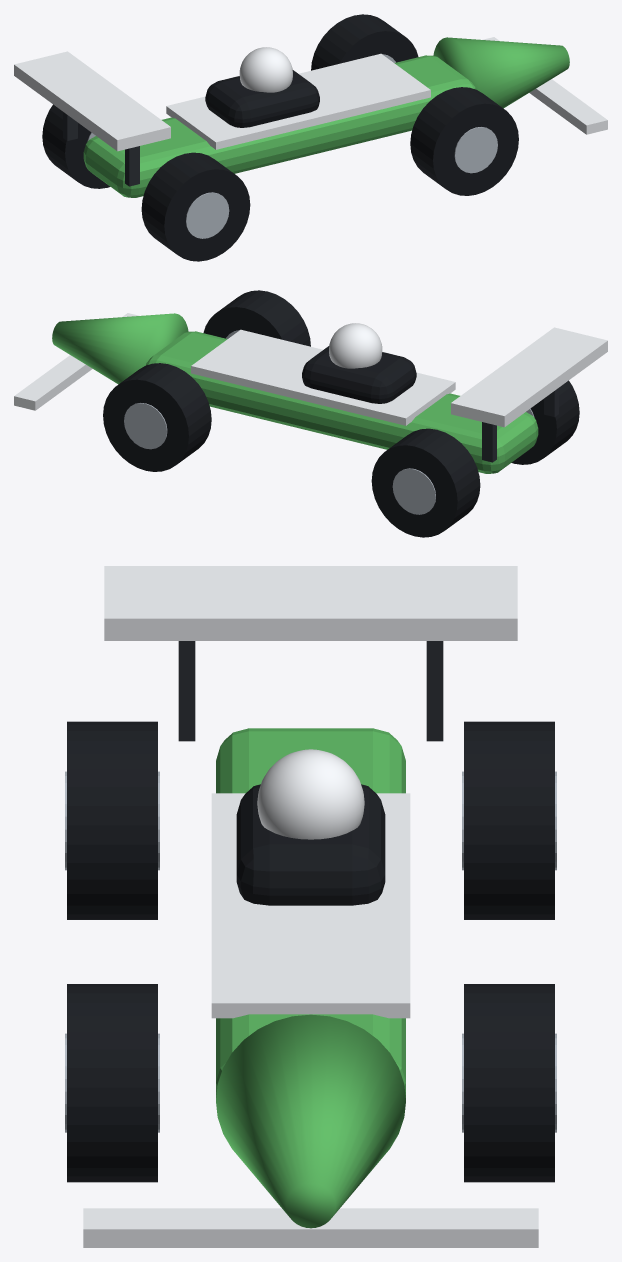
File: auto_carreras_verde.glb
The picture shows the model from 3 angles, top to bottom: view 1: azimuth 30°, elevation 25°; view 2: azimuth 150°, elevation 25°; view 3: azimuth 270°, elevation 25°; orthographic projection. The views are drawn at different scales.
Parts seen in each view (by area): view 1: Cube, Cube.002, Cylinder, Cylinder.004, Cube.006, Cone, Cube.001, Cylinder.006, Cylinder.002, Sphere, Cube.003, Cylinder.001 (+3 smaller); view 2: Cube, Cube.002, Cylinder.002, Cylinder.006, Cube.006, Cone, Cube.001, Cylinder.004, Cylinder, Sphere, Cube.003, Cylinder.003 (+3 smaller); view 3: Cube.006, Cone, Cube.002, Cylinder, Cylinder.002, Cylinder.004, Cylinder.006, Cube.003, Cube.001, Cube, Sphere, Cube.004 (+1 smaller).
Boxes of the visible parts, <box> form: Cube: <box>83,55,475,197</box>; Cube.002: <box>166,53,430,149</box>; Cylinder: <box>141,152,250,261</box>; Cylinder.004: <box>410,87,518,195</box>; Cube.006: <box>14,51,170,151</box>; Cone: <box>433,37,569,108</box>; Cube.001: <box>205,70,319,127</box>; Cylinder.006: <box>311,14,418,70</box>; Cylinder.002: <box>42,104,110,188</box>; Sphere: <box>239,47,292,92</box>; Cube.003: <box>482,37,607,134</box>; Cylinder.001: <box>186,192,229,238</box>; Cube: <box>146,331,538,473</box>; Cube.002: <box>191,329,455,425</box>; Cylinder.002: <box>371,428,480,537</box>; Cylinder.006: <box>103,363,211,471</box>; Cube.006: <box>451,327,607,427</box>; Cone: <box>52,313,188,384</box>; Cube.001: <box>302,346,416,403</box>; Cylinder.004: <box>203,290,310,346</box>; Cylinder: <box>511,380,579,464</box>; Sphere: <box>329,323,382,368</box>; Cube.003: <box>14,313,139,410</box>; Cylinder.003: <box>392,468,435,514</box>; Cube.006: <box>104,566,517,640</box>; Cone: <box>216,1014,405,1228</box>; Cube.002: <box>211,793,410,1018</box>; Cylinder: <box>67,721,157,919</box>; Cylinder.002: <box>464,721,554,919</box>; Cylinder.004: <box>67,984,157,1182</box>; Cylinder.006: <box>464,984,554,1182</box>; Cube.003: <box>83,1208,538,1247</box>; Cube.001: <box>236,784,385,905</box>; Cube: <box>216,728,405,1097</box>; Sphere: <box>257,749,364,839</box>; Cube.004: <box>178,641,195,741</box>.
Size of the model in its own units: 2.78 by 0.73 by 1.19.
